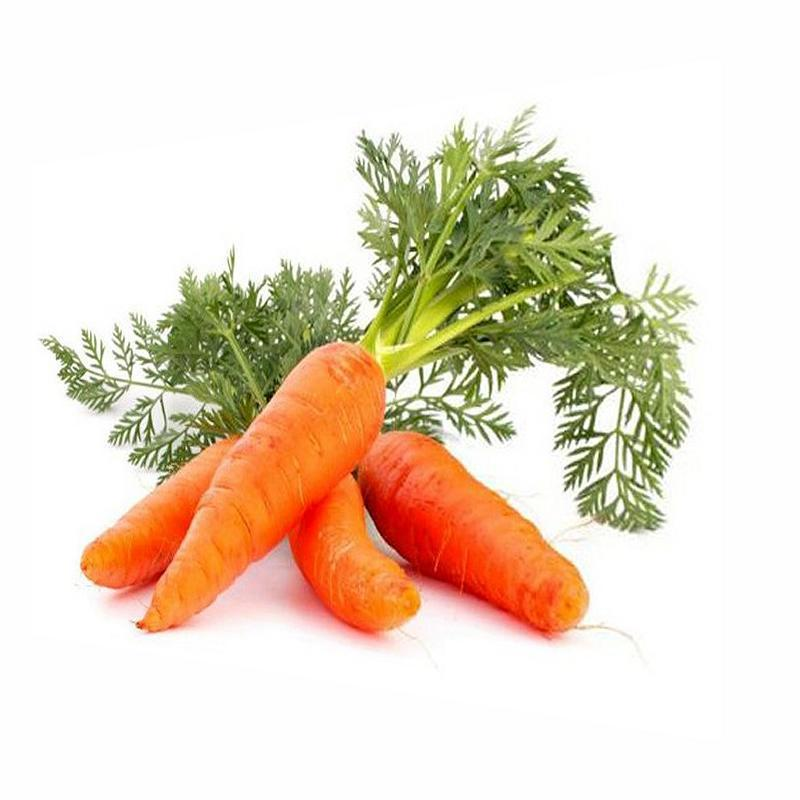carrot: (85, 304, 602, 657)
